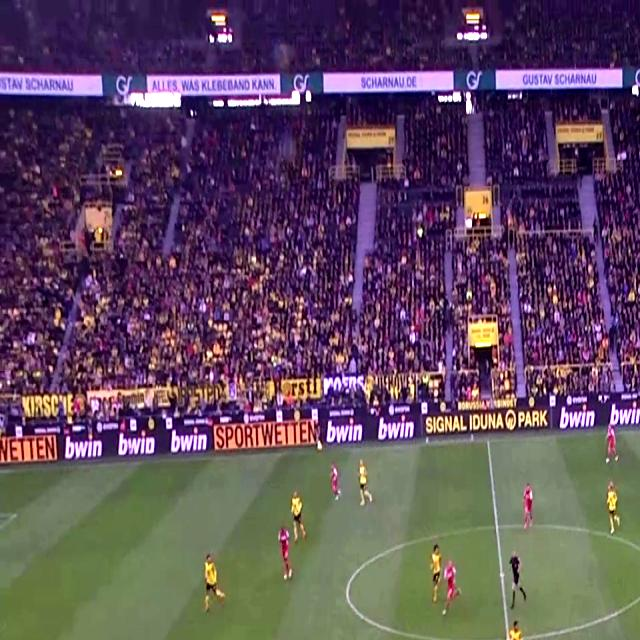referee: (502, 549, 530, 609)
soccer-player: (199, 548, 231, 616), (274, 520, 300, 588), (442, 552, 467, 619), (604, 478, 628, 540), (520, 475, 544, 533), (286, 488, 309, 545), (426, 538, 444, 610), (353, 459, 376, 514), (604, 416, 624, 470), (329, 462, 348, 511), (504, 615, 527, 640)
